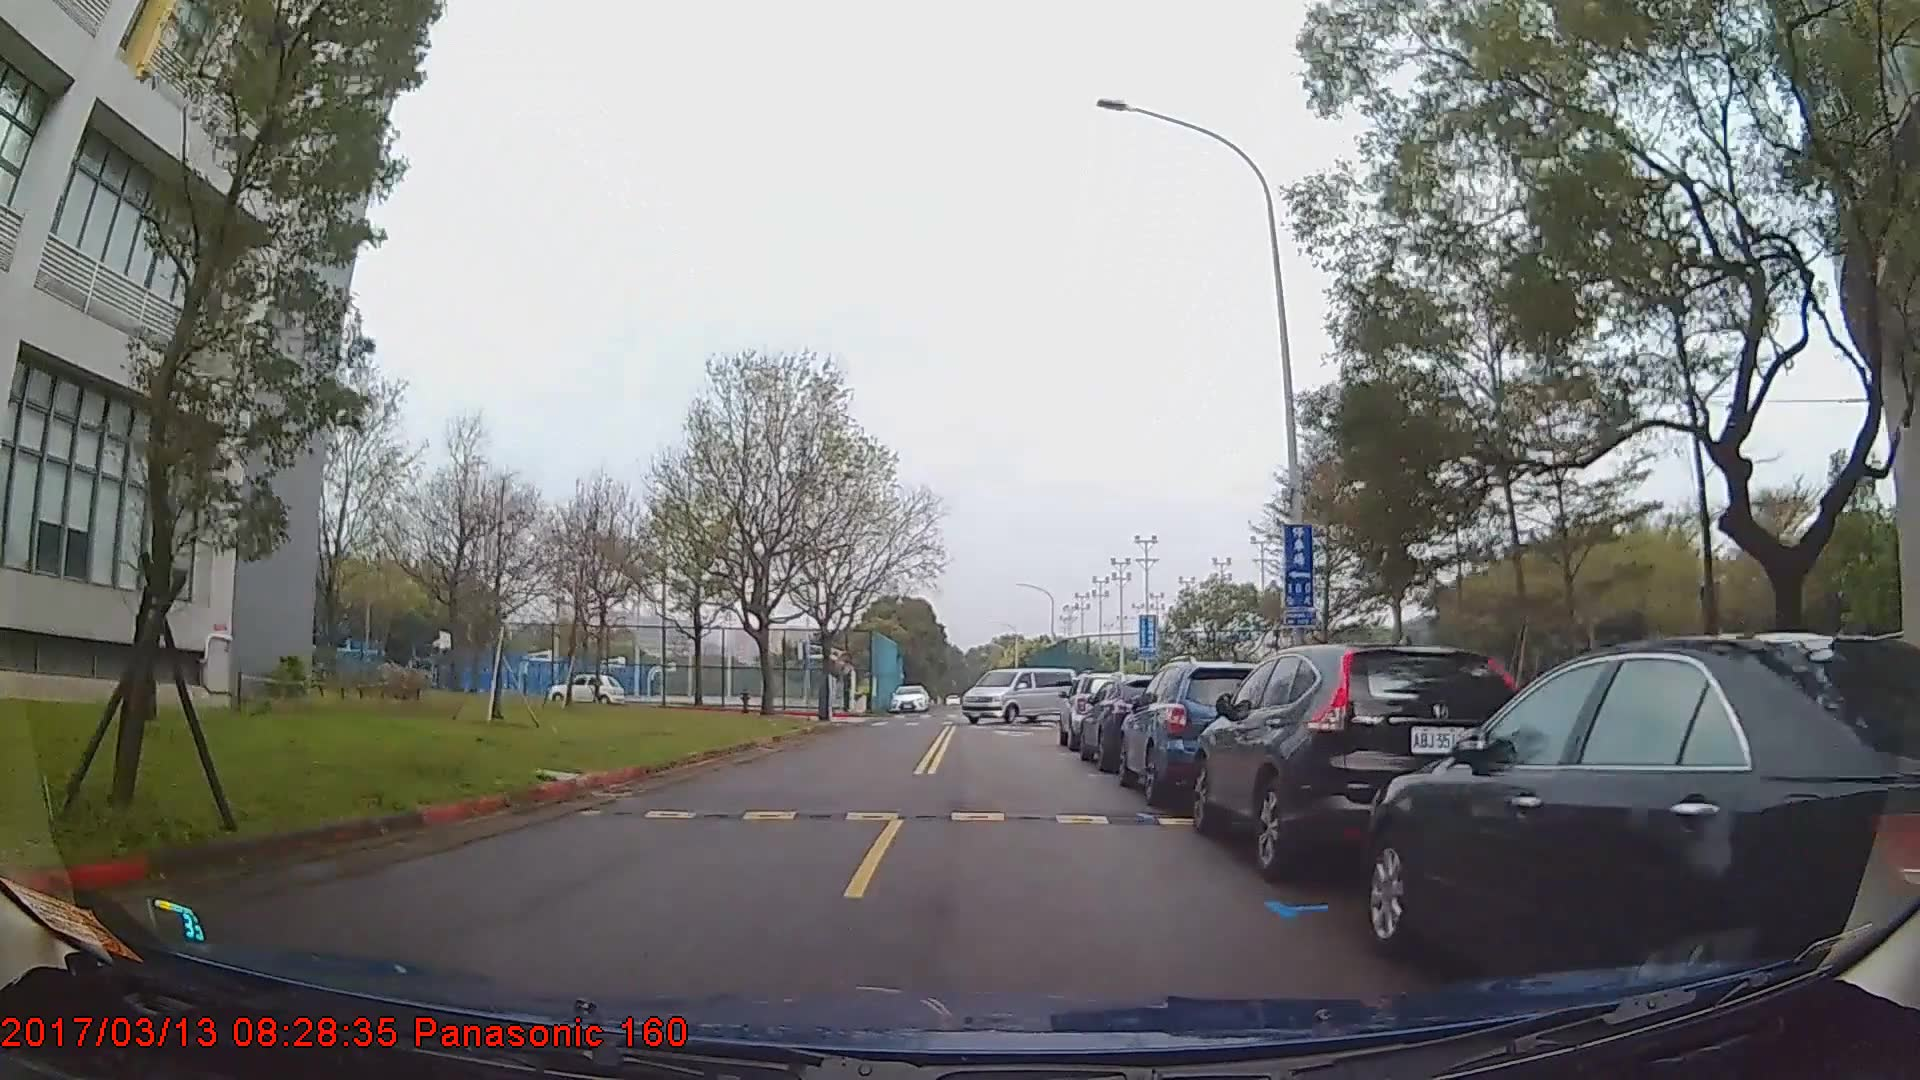vehicle: (1360, 632, 1920, 1015), (1189, 640, 1524, 881), (1116, 659, 1278, 804), (963, 666, 1079, 721), (546, 669, 625, 707), (889, 684, 931, 713)
